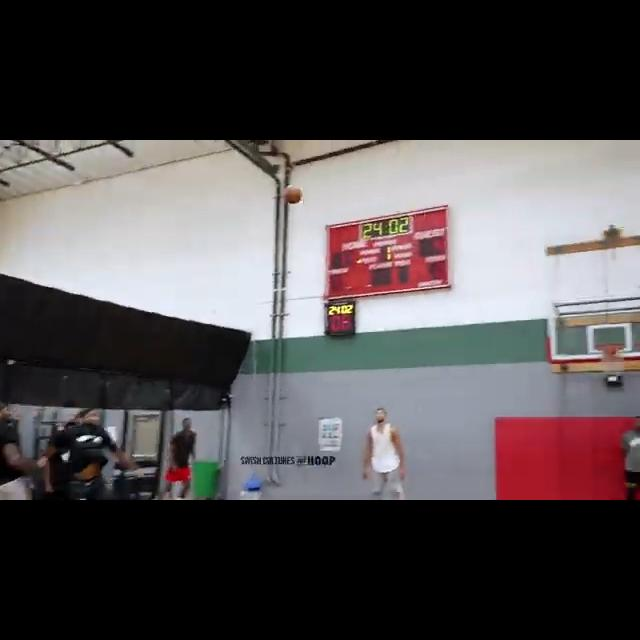basketball: (282, 183, 304, 206)
hoop: (595, 342, 628, 379)
person: (46, 404, 138, 500), (359, 406, 408, 500), (1, 402, 46, 500), (162, 412, 198, 500), (615, 412, 640, 500)
